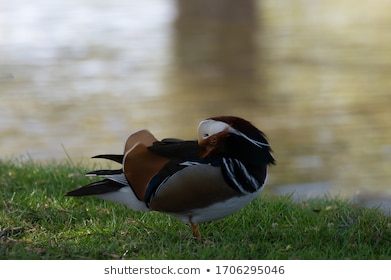duck: (42, 75, 299, 238)
